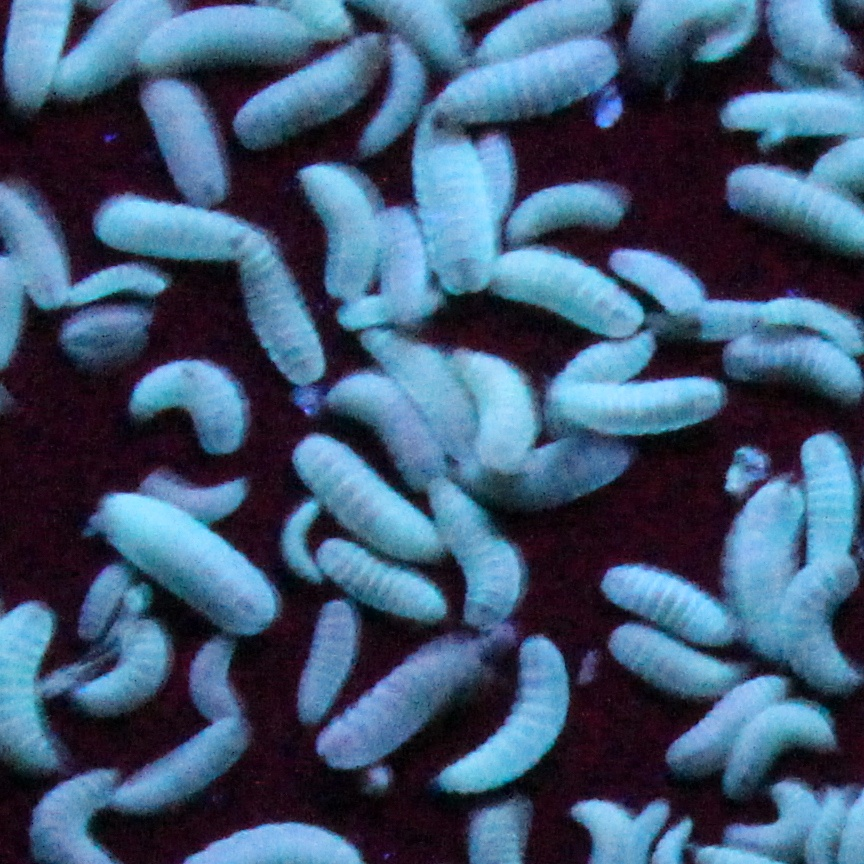larve: (98, 491, 278, 635), (314, 634, 491, 773), (434, 633, 569, 793), (291, 431, 440, 561), (402, 109, 492, 299), (364, 334, 497, 462), (437, 34, 627, 121), (426, 479, 525, 630), (233, 225, 324, 389), (326, 363, 442, 491), (489, 246, 649, 336), (136, 61, 226, 213), (99, 193, 276, 269), (111, 715, 249, 812), (600, 563, 744, 655), (487, 426, 641, 511), (289, 164, 384, 301), (722, 478, 810, 624), (608, 618, 760, 702), (128, 355, 244, 461), (665, 680, 789, 775), (320, 545, 448, 621), (76, 619, 171, 721), (790, 434, 860, 572), (462, 351, 541, 471), (552, 382, 722, 436), (502, 184, 629, 254), (622, 244, 716, 330), (300, 600, 359, 726), (136, 459, 248, 525), (379, 204, 432, 319), (54, 258, 172, 306), (190, 628, 243, 726), (694, 290, 794, 340), (466, 134, 517, 229), (81, 551, 136, 638), (280, 498, 326, 583)
